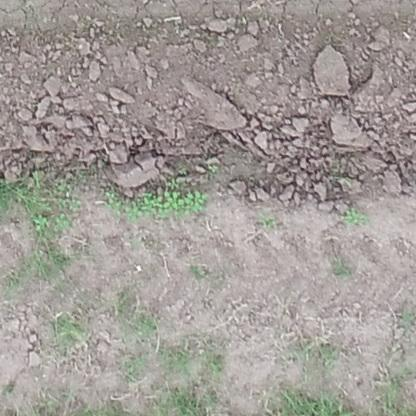vc: (34, 216, 47, 229)
